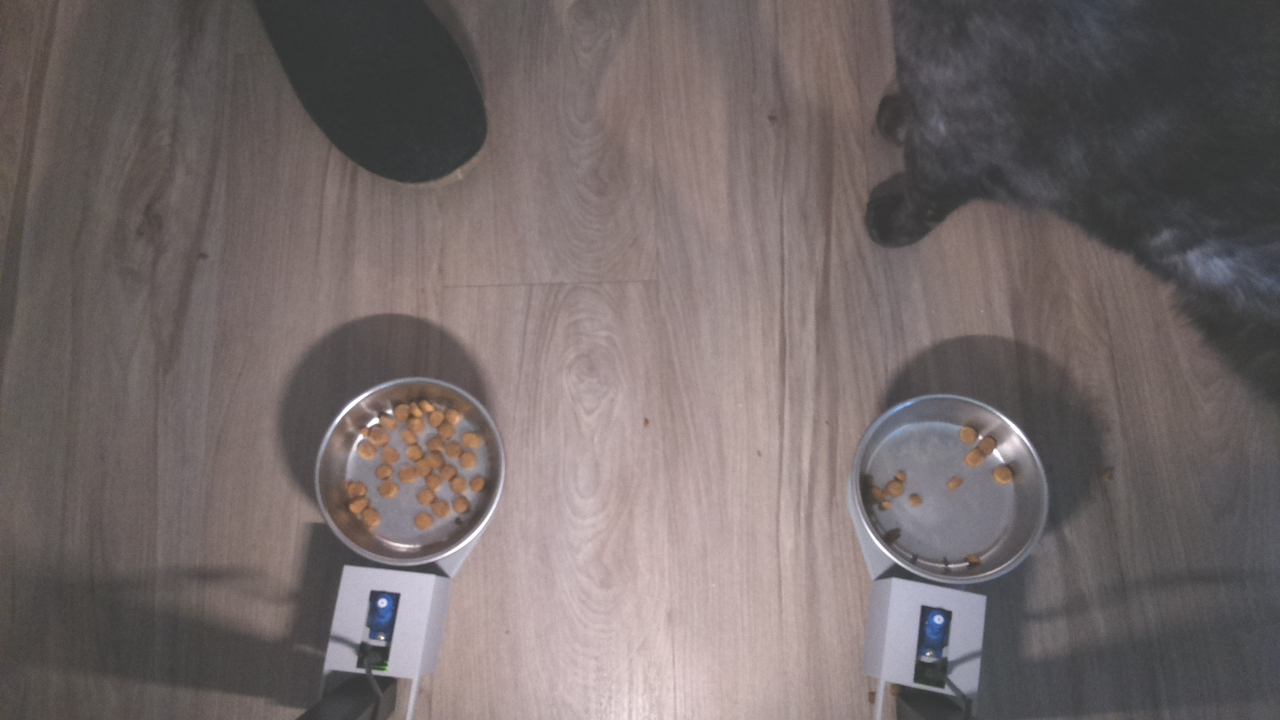open_bowl: (847, 389, 1049, 592), (312, 370, 507, 563)
